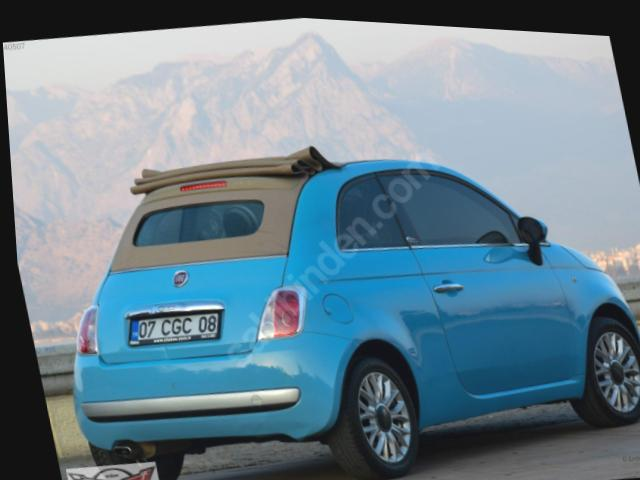plaka: (129, 311, 221, 346)
